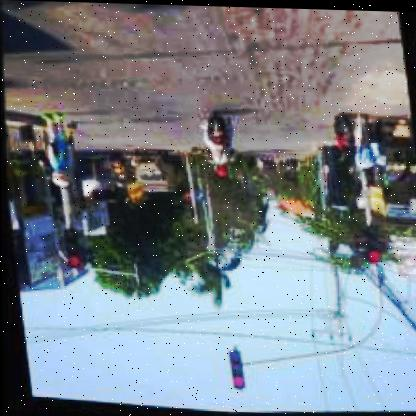Traffic Light -Red-: (62, 231, 80, 274), (226, 351, 244, 393), (362, 224, 380, 263)
